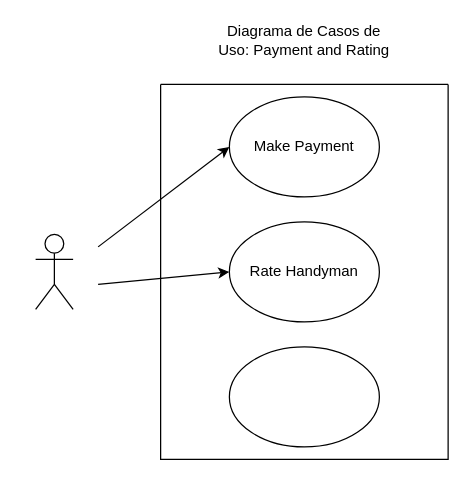
Image size: 470x481. Some labels were removed from this diagram. Each missing label, with the centre of its shape:
Customer: pixel 53 271
Process Commission: pixel 303 396
